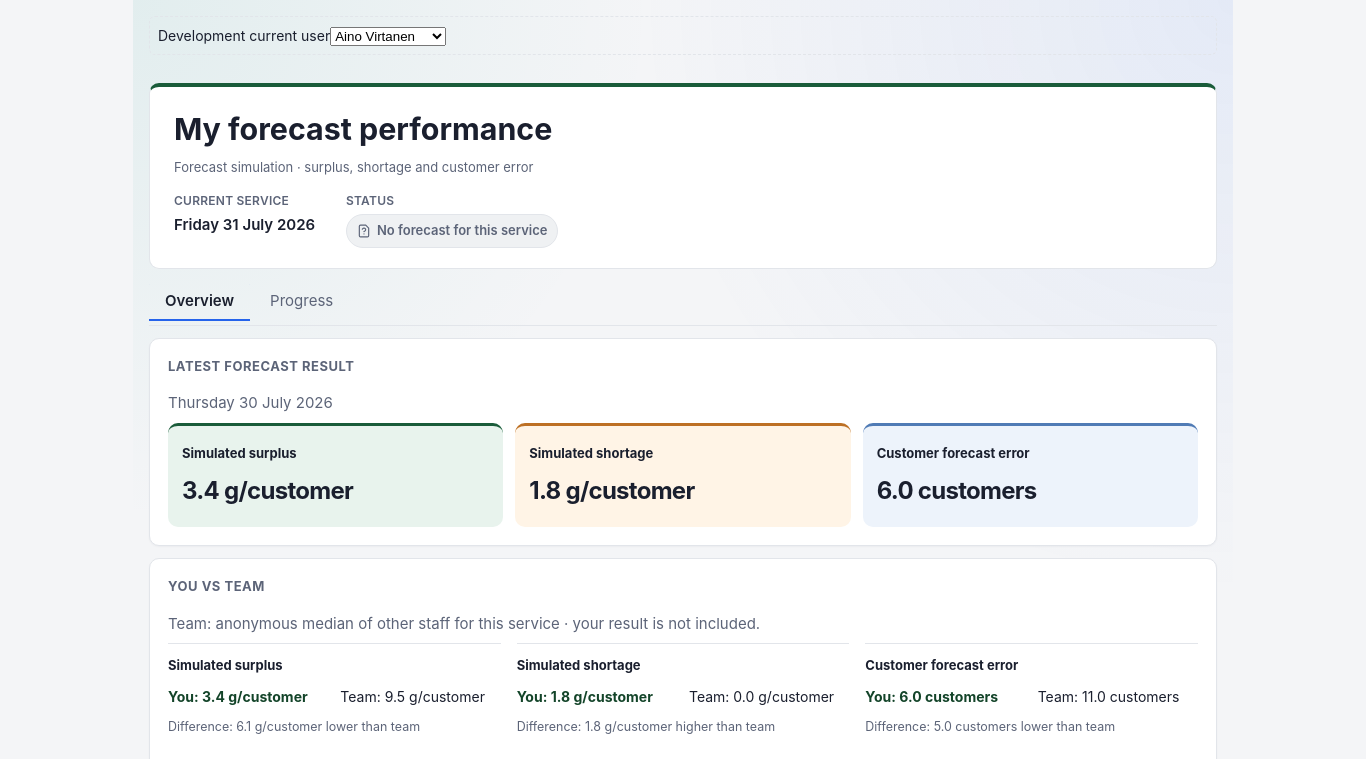
Scenario: dashboard headings and progress discoverability › has exactly one h1 and shows progress without current result
Expected: the heading "My forecast performance" is shown, [174, 111, 552, 147]
Click the tab with test id "participant-primary-tab-progress": (302, 301) [254, 281, 349, 321]
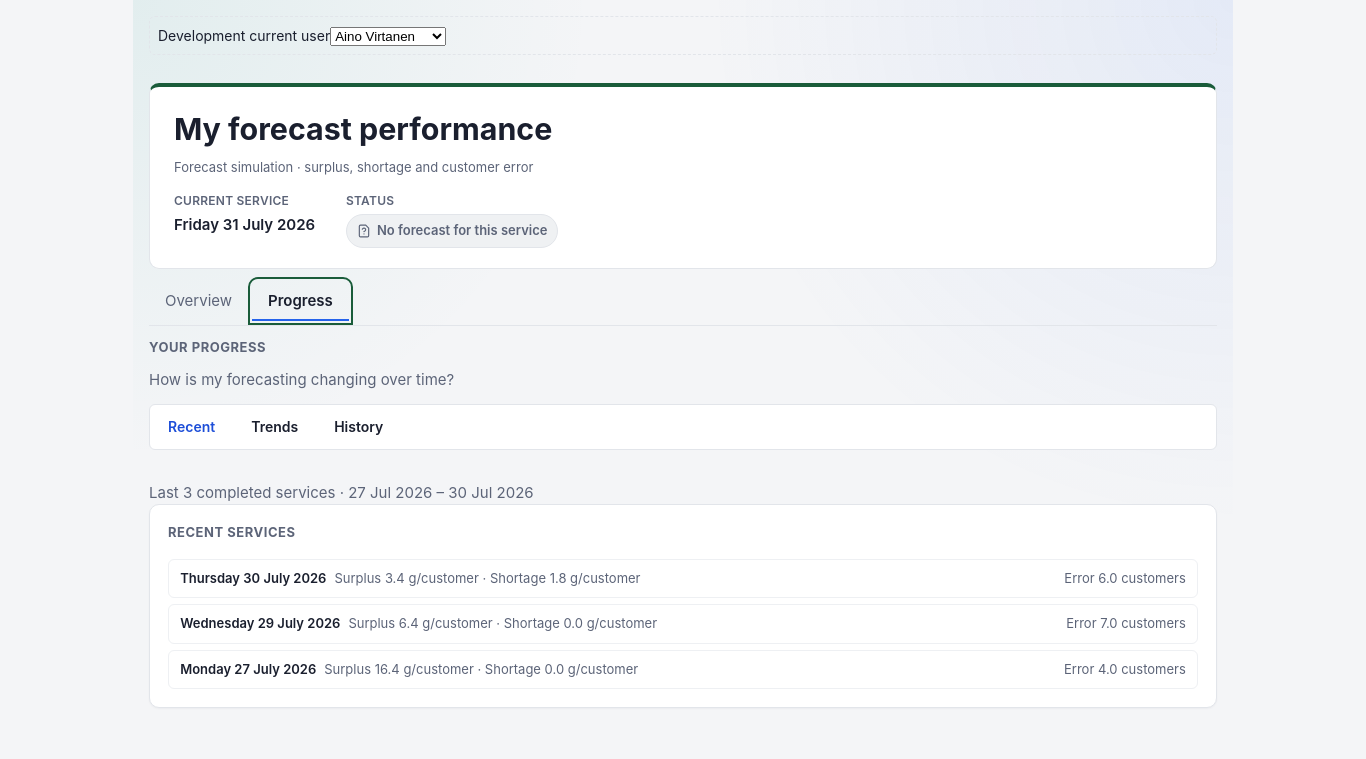
Result: the element with test id "your-progress-section" is shown at [149, 338, 1217, 708]
Result: the element with test id "progress-view-tabs" is shown at [149, 404, 1217, 450]
